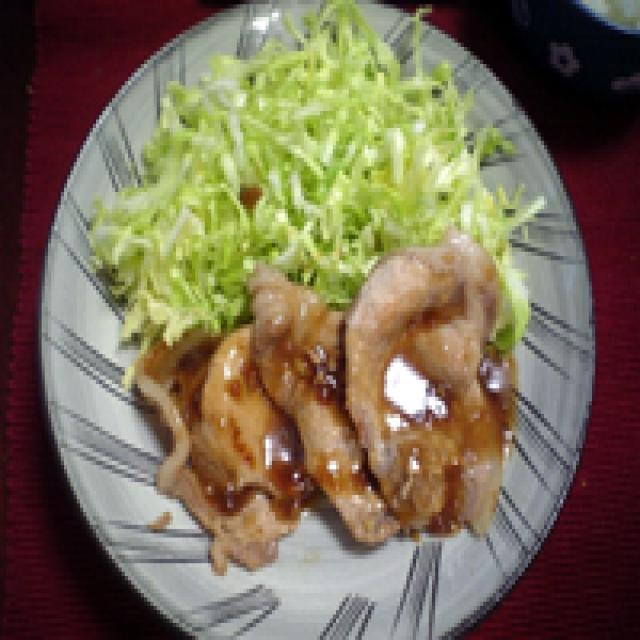猪肉菜式: (29, 0, 598, 640)
